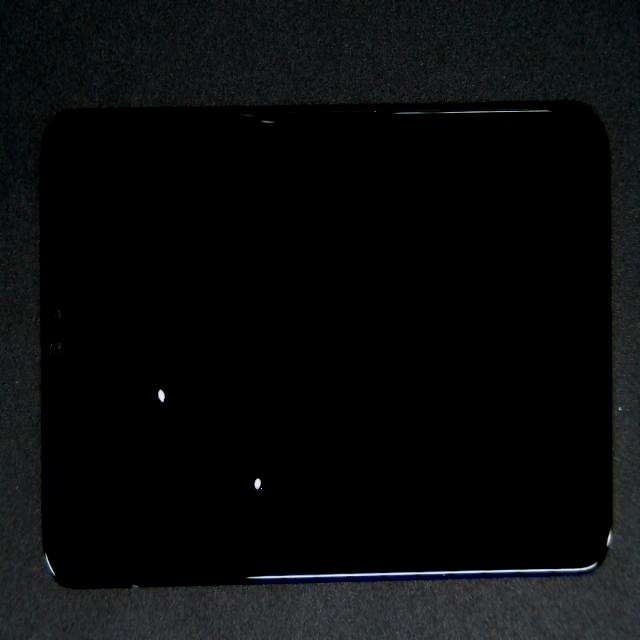stain: (111, 214, 367, 640), (70, 173, 232, 609)
